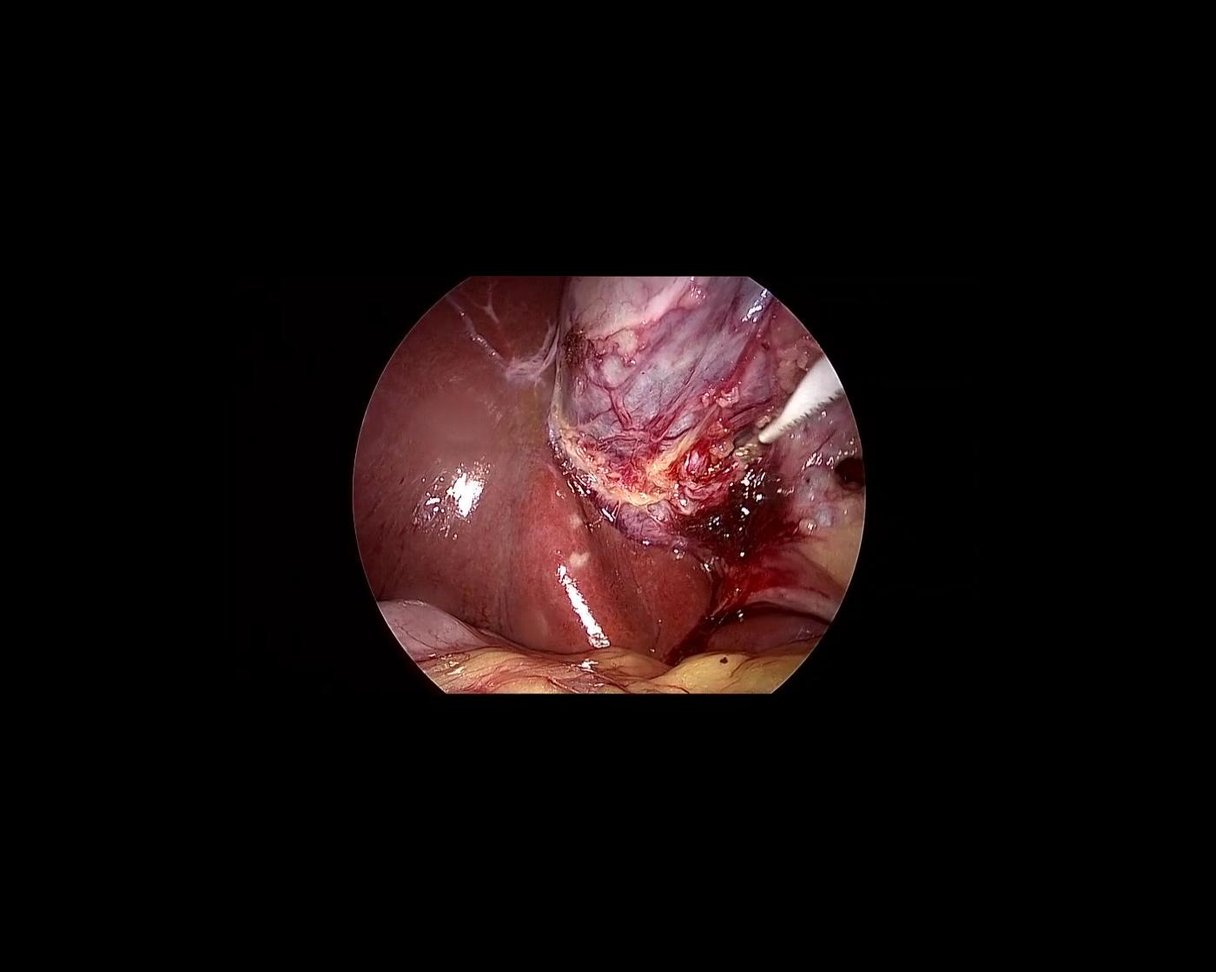Cautery: (739, 354, 851, 451)
Gallbladder: (558, 279, 822, 498)
Liver: (267, 241, 737, 760)
